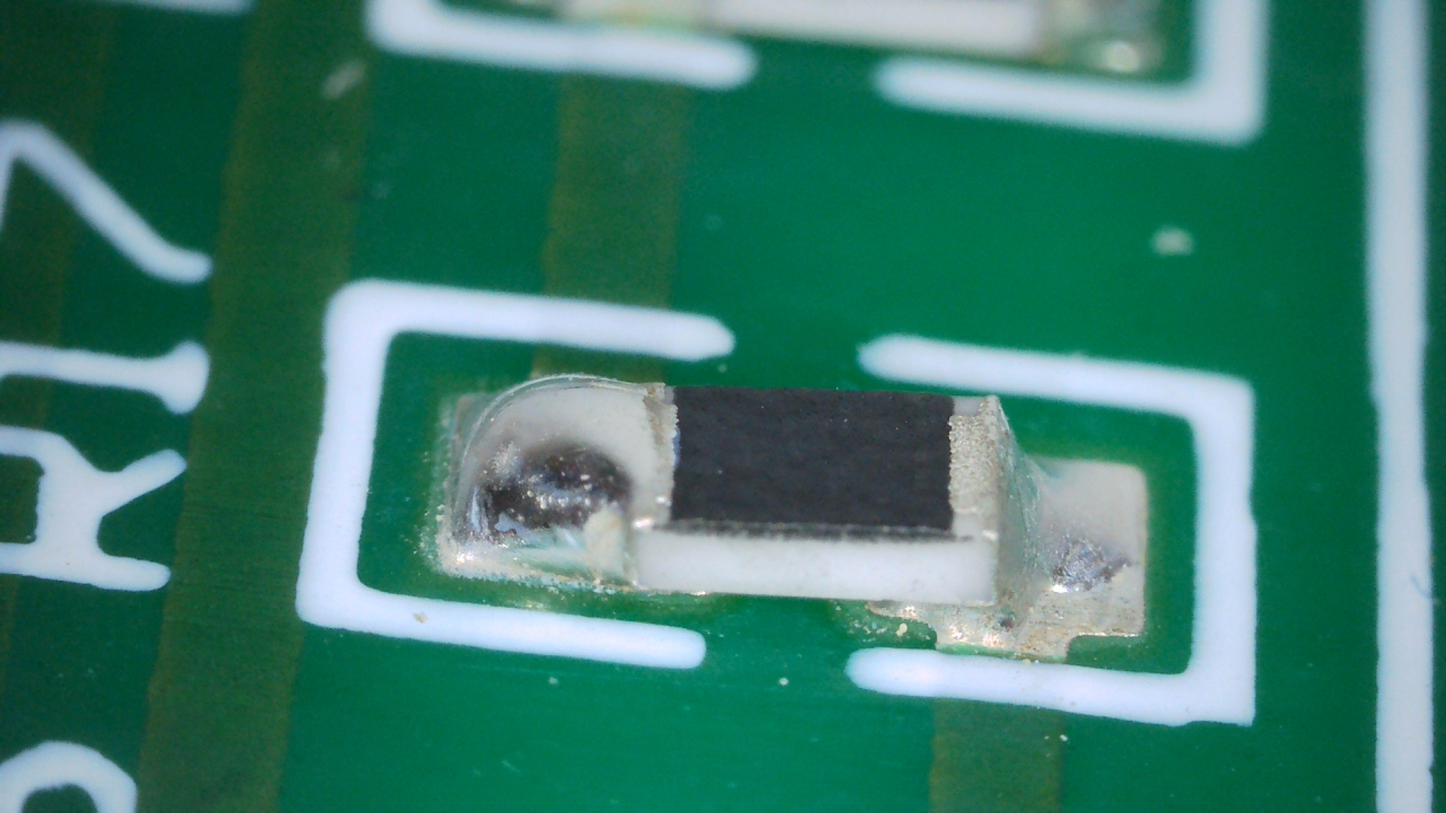NG: (869, 396, 1143, 652), (438, 376, 674, 589)
